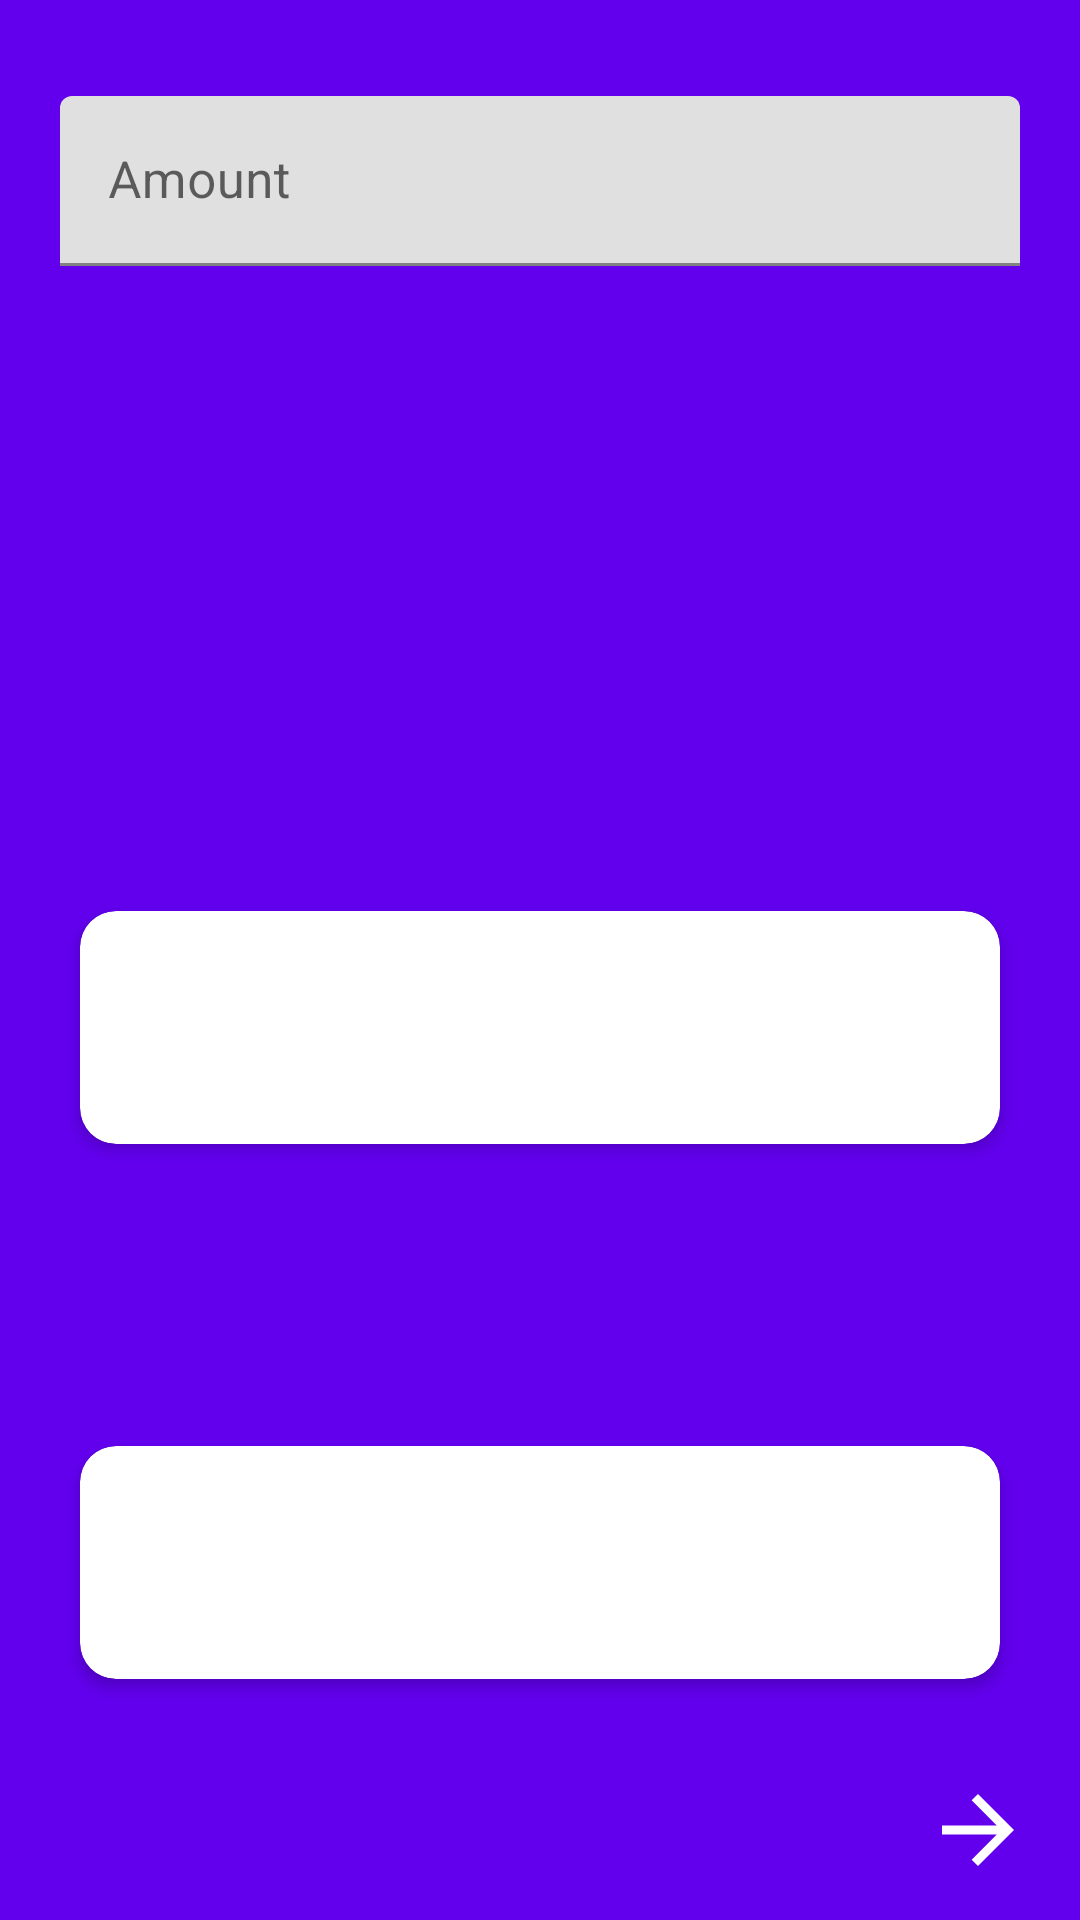

Screen size 1080 x 1920. Icon name, then its box in pixels as (x1, y1, x2, y2):
arrow forward: (942, 1794, 1014, 1866)
